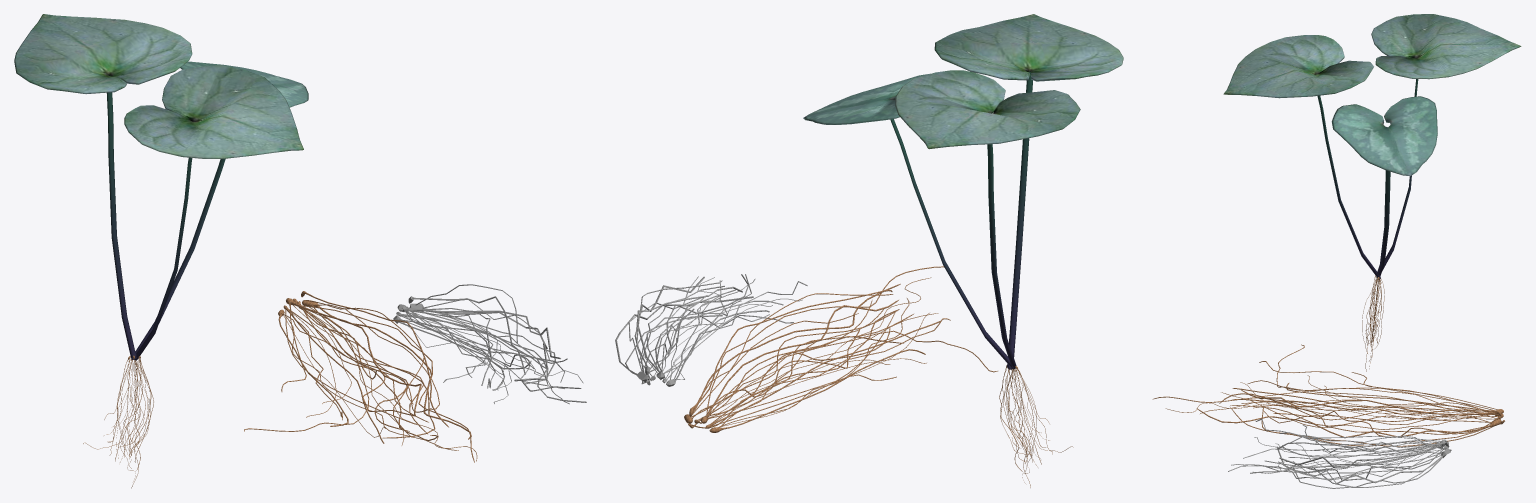
File: xixin.FBX
The picture shows the model from 3 angles, left to right: view 1: azimuth 30°, elevation 25°; view 2: azimuth 150°, elevation 25°; view 3: azimuth 270°, elevation 25°; orthographic projection. The views are drawn at different scales.
Parts seen in each view (by area): view 1: Line055, Line053, Line016, Line054, Line056; view 2: Line053, Line055, Line016, Line054, Line056; view 3: Line055, Line053, Line016, Line054, Line056, Line027.
Boxes of the visible parts, x1,y1,x2,y2 form: Line055: (124, 65, 303, 360); Line053: (14, 14, 192, 359); Line016: (244, 291, 477, 462); Line054: (135, 61, 308, 359); Line056: (83, 355, 153, 488); Line053: (895, 70, 1080, 368); Line055: (934, 14, 1123, 369); Line016: (684, 266, 997, 432); Line054: (803, 73, 1013, 369); Line056: (999, 365, 1073, 487); Line055: (1223, 35, 1380, 279); Line053: (1371, 14, 1521, 270); Line016: (1152, 344, 1504, 446); Line054: (1331, 96, 1437, 275); Line056: (1362, 275, 1384, 371); Line027: (1276, 446, 1450, 483).
Bounding box in the file's own units: 60.03 × 48.89 × 49.62.
Materials: 3 (2 with a texture image).
